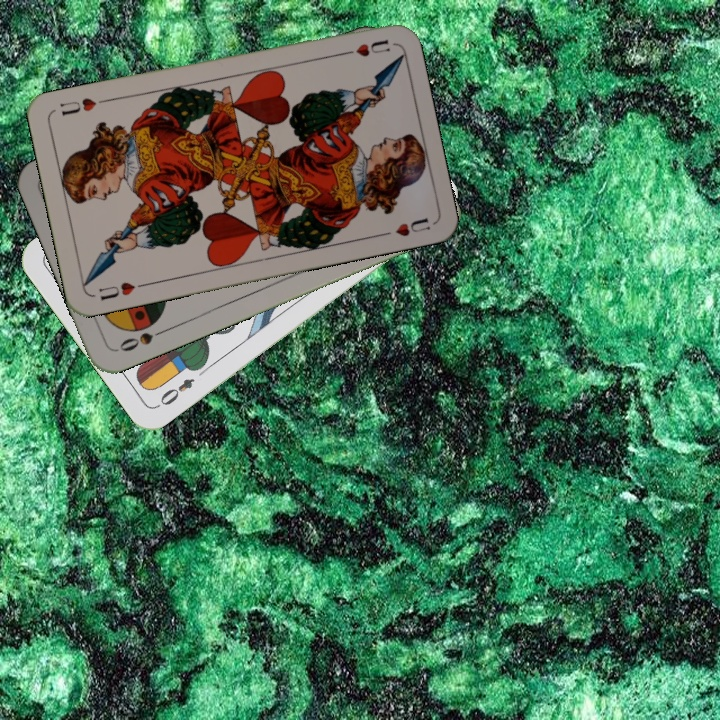EO: (152, 374, 197, 411)
HU: (336, 35, 392, 60), (94, 278, 149, 303)
SO: (115, 325, 169, 354)
